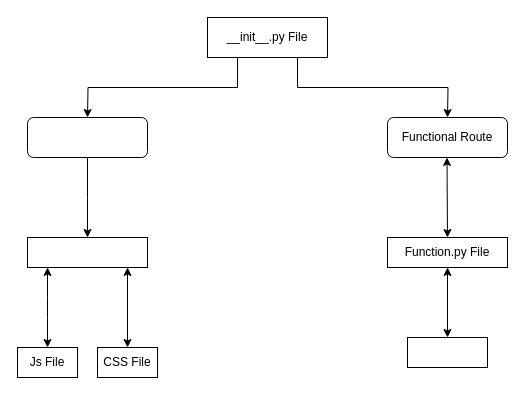
Image size: 525x395. Some labels were removed from this diagram. The shapes that lost their labels are listed below. From the top down, each one's box as (x1, y1, x2, y2) in pixels, then its label:
(26, 116, 148, 158): Render Route
(26, 236, 148, 268): HTML Files
(406, 336, 488, 368): Data Base
